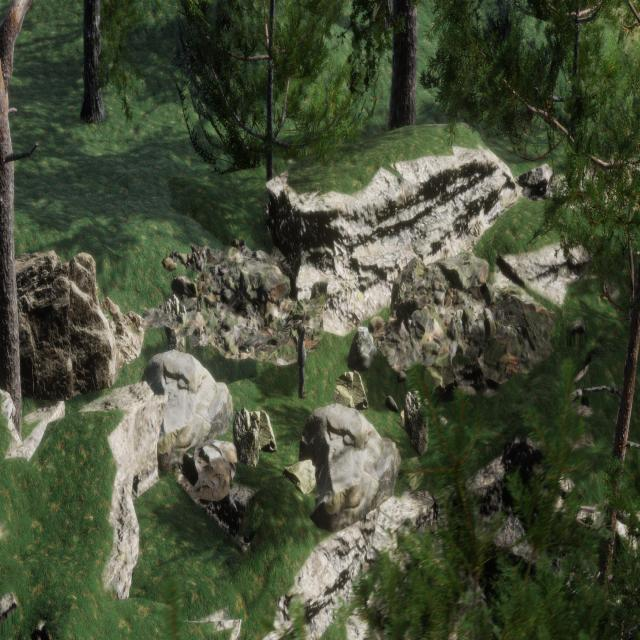Human: (294, 313, 310, 402)
